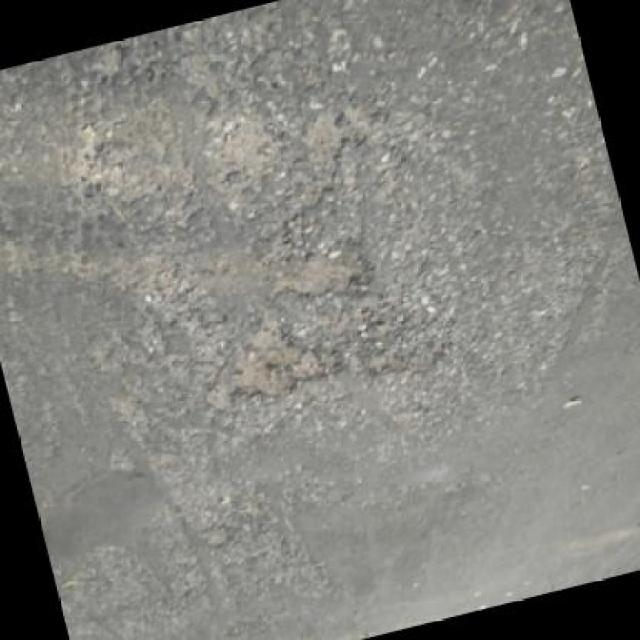pothole1: (219, 311, 327, 409), (277, 245, 374, 313)
